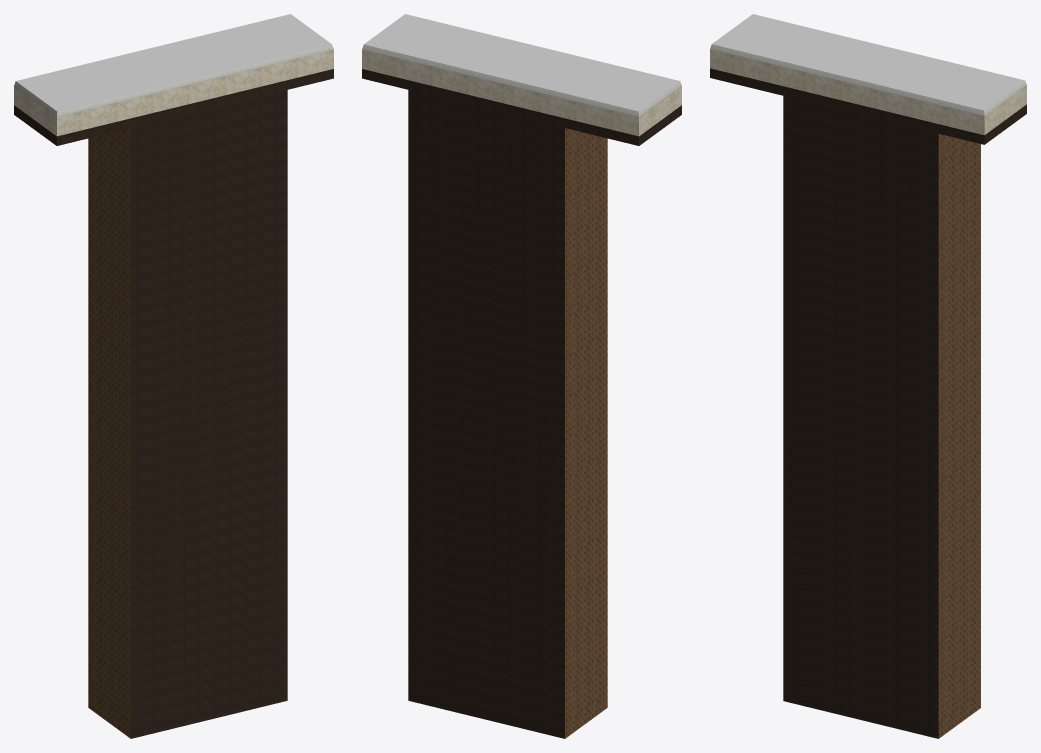
File: Map2c.obj
3 views of the same model, side by side, from view 1: azimuth 30°, elevation 25°; view 2: azimuth 150°, elevation 25°; view 3: azimuth 330°, elevation 25° (orthographic).
Size of the model in its own units: 59.8 by 133 by 16.
